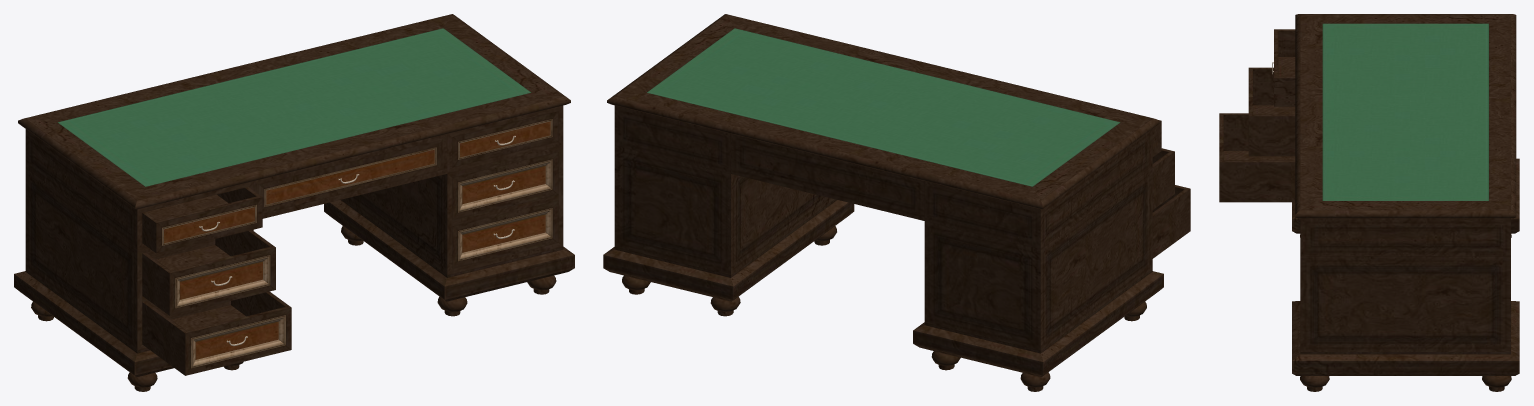
File: OfficeDesk.glb
3 views of the same model, side by side, from view 1: azimuth 30°, elevation 25°; view 2: azimuth 150°, elevation 25°; view 3: azimuth 270°, elevation 25° (orthographic). The views are drawn at different scales.
Visible parts, largest first — view 1: Object_2; view 2: Object_2; view 3: Object_2.
Boxes of the visible parts, bbox=[...] form: Object_2: bbox=[14, 14, 574, 391]; Object_2: bbox=[603, 14, 1190, 391]; Object_2: bbox=[1219, 14, 1519, 391].
Size of the model in its own units: 3.01 by 1.29 by 1.89.
Materials: 1 (1 with a texture image).
